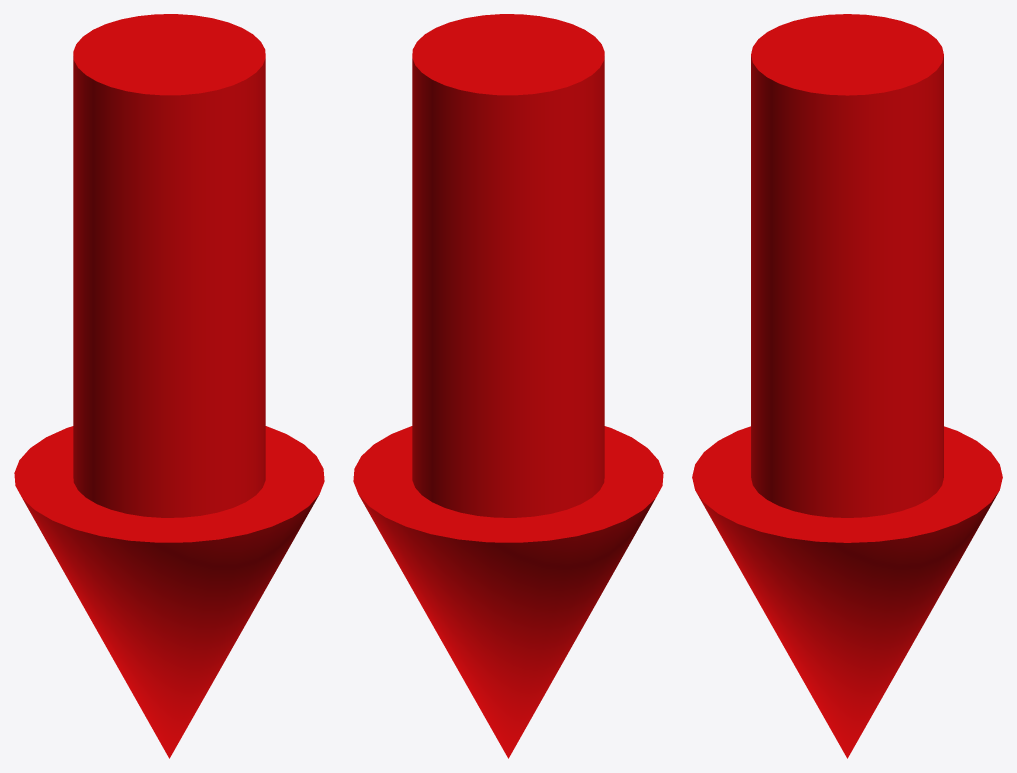
File: GoHereArrow 1.fbx
The picture shows the model from 3 angles, left to right: view 1: azimuth 30°, elevation 25°; view 2: azimuth 150°, elevation 25°; view 3: azimuth 270°, elevation 25°; orthographic projection.
Parts seen in each view (by area): view 1: Cone; view 2: Cone; view 3: Cone.
Part boxes in pixels (<box>): Cone: <box>14,14,324,758</box>; Cone: <box>353,14,663,758</box>; Cone: <box>692,14,1002,758</box>.
Size of the model in its own units: 200 by 500 by 200.
